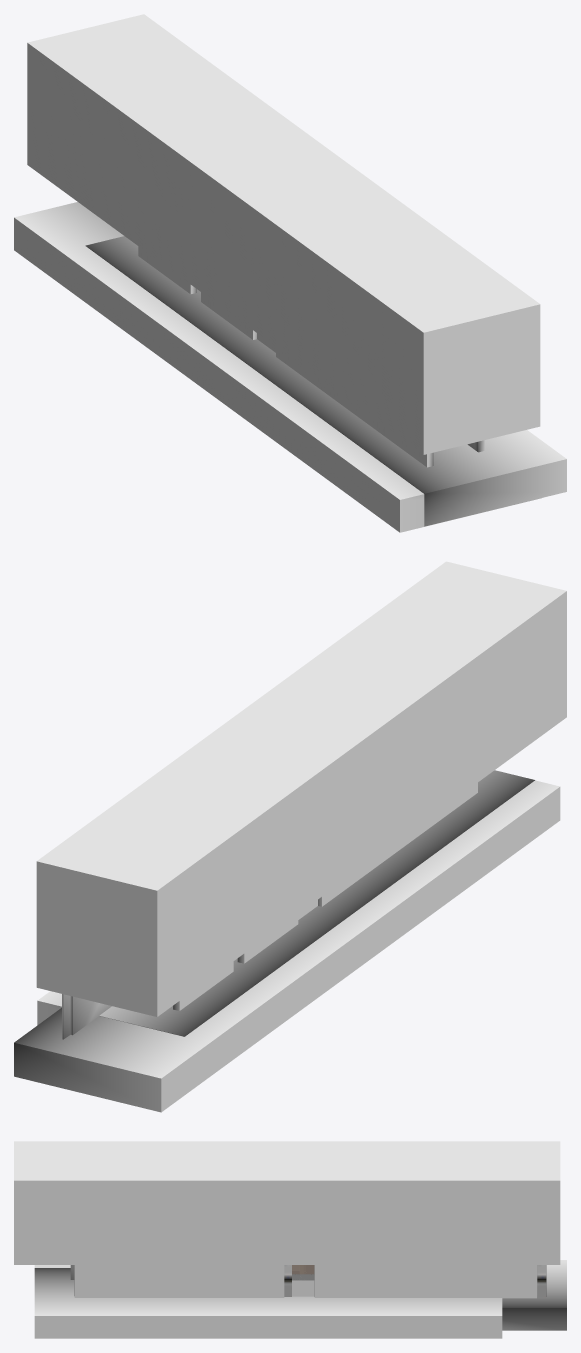
The model's file is escenainicial.fbx.
3 views of the same model, one above another, from view 1: azimuth 30°, elevation 25°; view 2: azimuth 150°, elevation 25°; view 3: azimuth 270°, elevation 25° (orthographic). The views are drawn at different scales.
Parts seen in each view (by area): view 1: Cube.048, Cube.051, Cube, Cube.042, Cube.047, Cube.052, Cube.049, Cube.008, Cube.050, Cube.036, Cube.046; view 2: Cube.051, Cube.047, Cube.042, Cube, Cube.048, Cube.052, Cube.050, Cube.008, Cube.049, Cube.036, Cube.046; view 3: Cube, Cube.051, Cube.042, Cube.048, Cube.047, Cube.052, Cube.036, Cube.049, Cube.008, Cube.050, Cube.046, Cube.021 (+1 smaller).
Part boxes in pixels (left/top/right/bottom): Cube.048: left=264, top=216, right=566, bottom=526; Cube.051: left=27, top=14, right=303, bottom=320; Cube: left=165, top=161, right=441, bottom=421; Cube.042: left=90, top=89, right=365, bottom=366; Cube.047: left=217, top=187, right=491, bottom=459; Cube.052: left=14, top=202, right=123, bottom=324; Cube.049: left=301, top=421, right=541, bottom=532; Cube.008: left=226, top=366, right=324, bottom=459; Cube.050: left=61, top=246, right=187, bottom=358; Cube.036: left=124, top=292, right=249, bottom=404; Cube.046: left=301, top=423, right=374, bottom=496; Cube.051: left=36, top=740, right=322, bottom=1036; Cube.047: left=344, top=597, right=518, bottom=892; Cube.042: left=202, top=693, right=386, bottom=988; Cube: left=266, top=636, right=464, bottom=932; Cube.048: left=398, top=561, right=566, bottom=854; Cube.052: left=14, top=994, right=267, bottom=1112; Cube.050: left=184, top=959, right=315, bottom=1076; Cube.008: left=356, top=855, right=457, bottom=951; Cube.049: left=433, top=780, right=560, bottom=863; Cube.036: left=291, top=912, right=380, bottom=998; Cube.046: left=409, top=817, right=509, bottom=927; Cube: left=150, top=1141, right=370, bottom=1338; Cube.051: left=340, top=1141, right=560, bottom=1338; Cube.042: left=254, top=1141, right=474, bottom=1338; Cube.048: left=14, top=1141, right=234, bottom=1338; Cube.047: left=78, top=1141, right=298, bottom=1338; Cube.052: left=472, top=1260, right=566, bottom=1330; Cube.036: left=314, top=1265, right=404, bottom=1297; Cube.049: left=34, top=1265, right=146, bottom=1297; Cube.008: left=214, top=1265, right=291, bottom=1297; Cube.050: left=404, top=1265, right=472, bottom=1297; Cube.046: left=146, top=1265, right=213, bottom=1297; Cube.021: left=214, top=1265, right=284, bottom=1297.
Bounding box in the file's own units: 4608 × 5513 × 19179.
